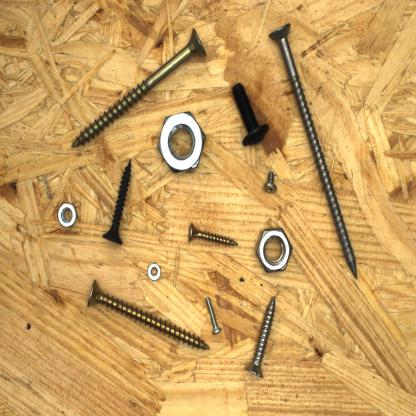screw: (265, 17, 361, 281), (70, 20, 212, 151), (83, 276, 214, 353), (240, 290, 278, 382), (227, 75, 273, 151), (99, 154, 136, 246), (186, 221, 242, 252), (200, 288, 223, 339), (262, 169, 279, 194)
